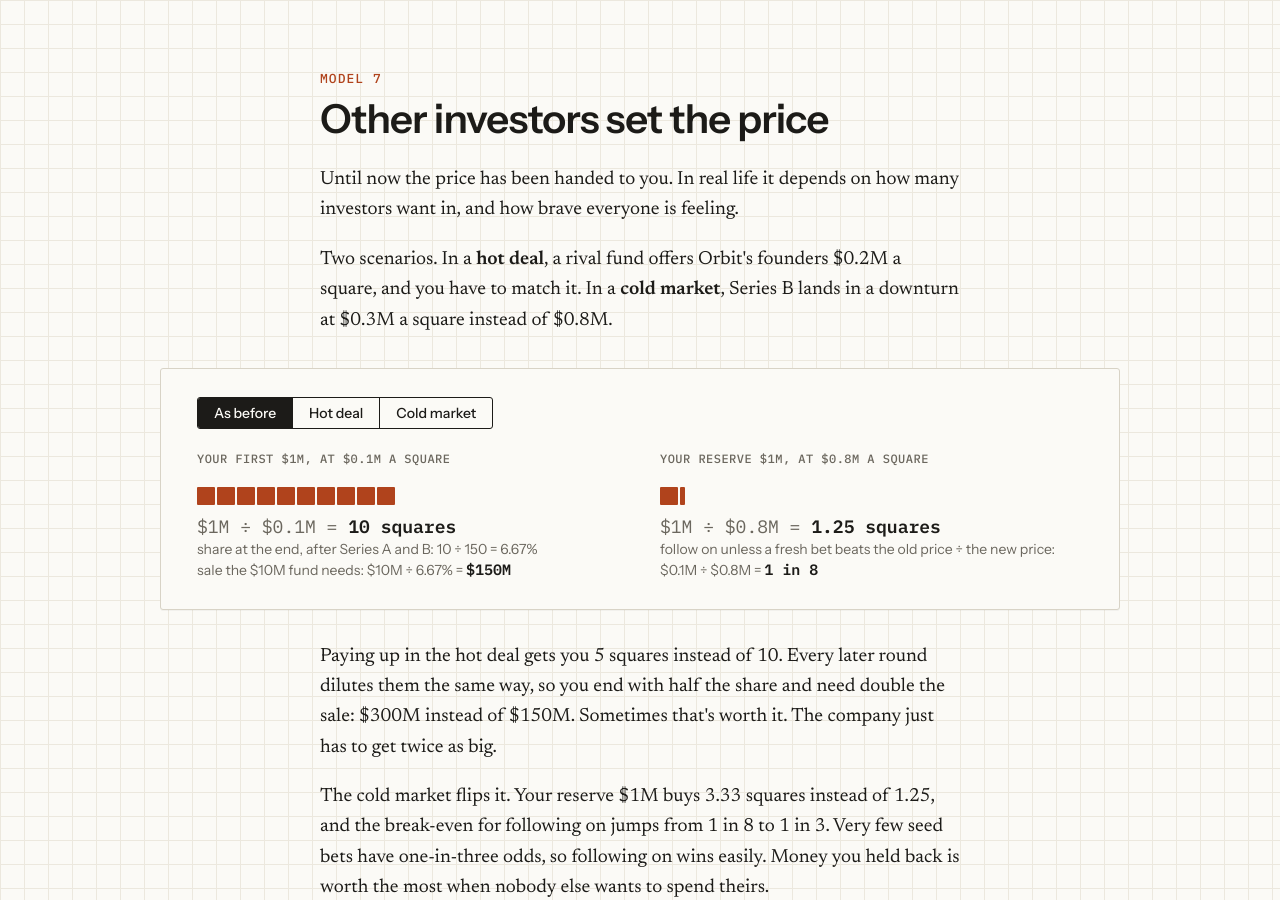
Test case: Model 7: other investors set the price › shows the division behind every number
Click the button "Hot deal".
click(336, 413)  # box [292,398,379,428]
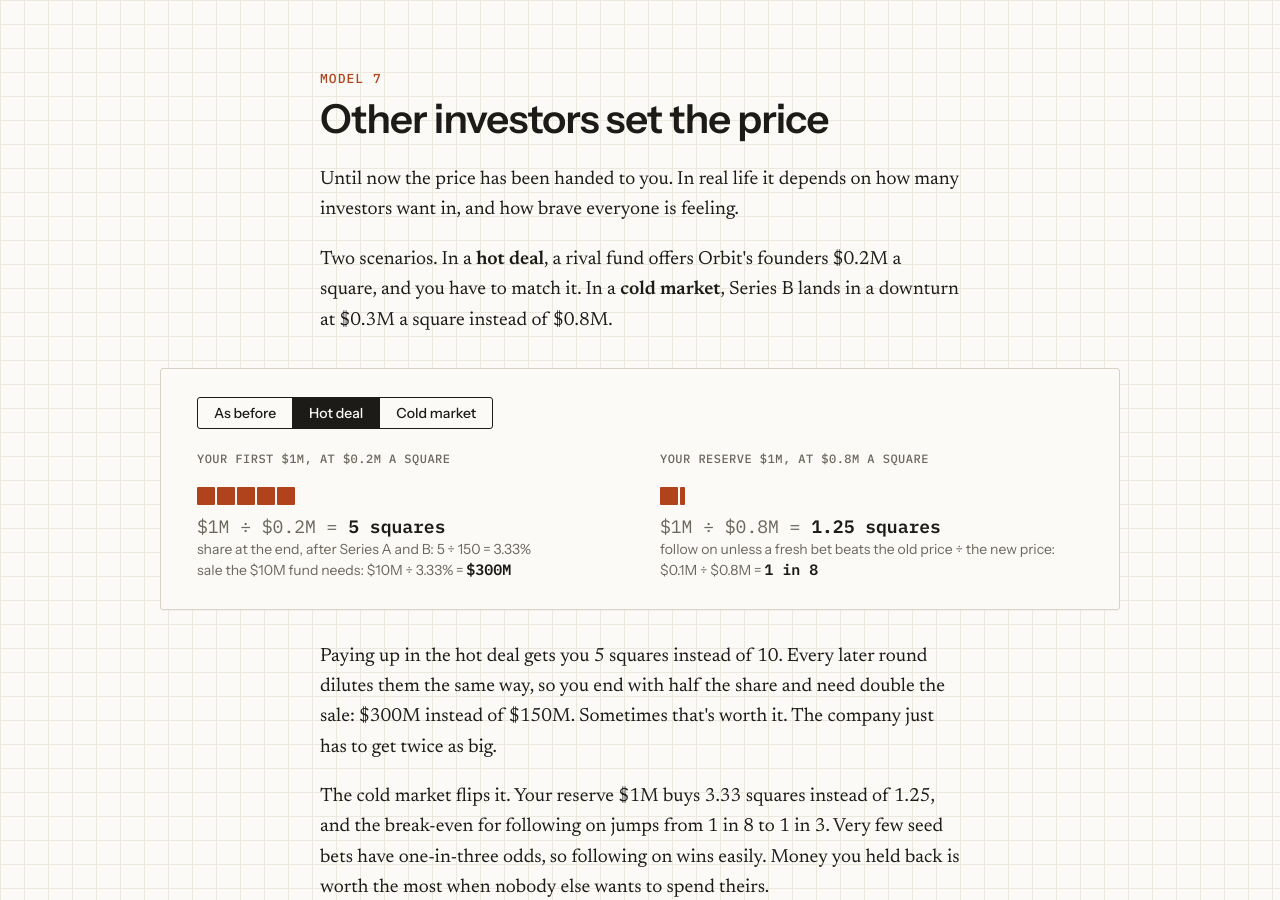
Expected: the text with test id "first-working-7" reads "$1M ÷ $0.2M =", [197,515,337,538]
Expected: the element with test id "napkin-7" reads "$10M ÷ 3.33% = $300M", [367,561,511,579]
Click the button "Cold market".
click(436, 413)  # box [379,398,492,428]
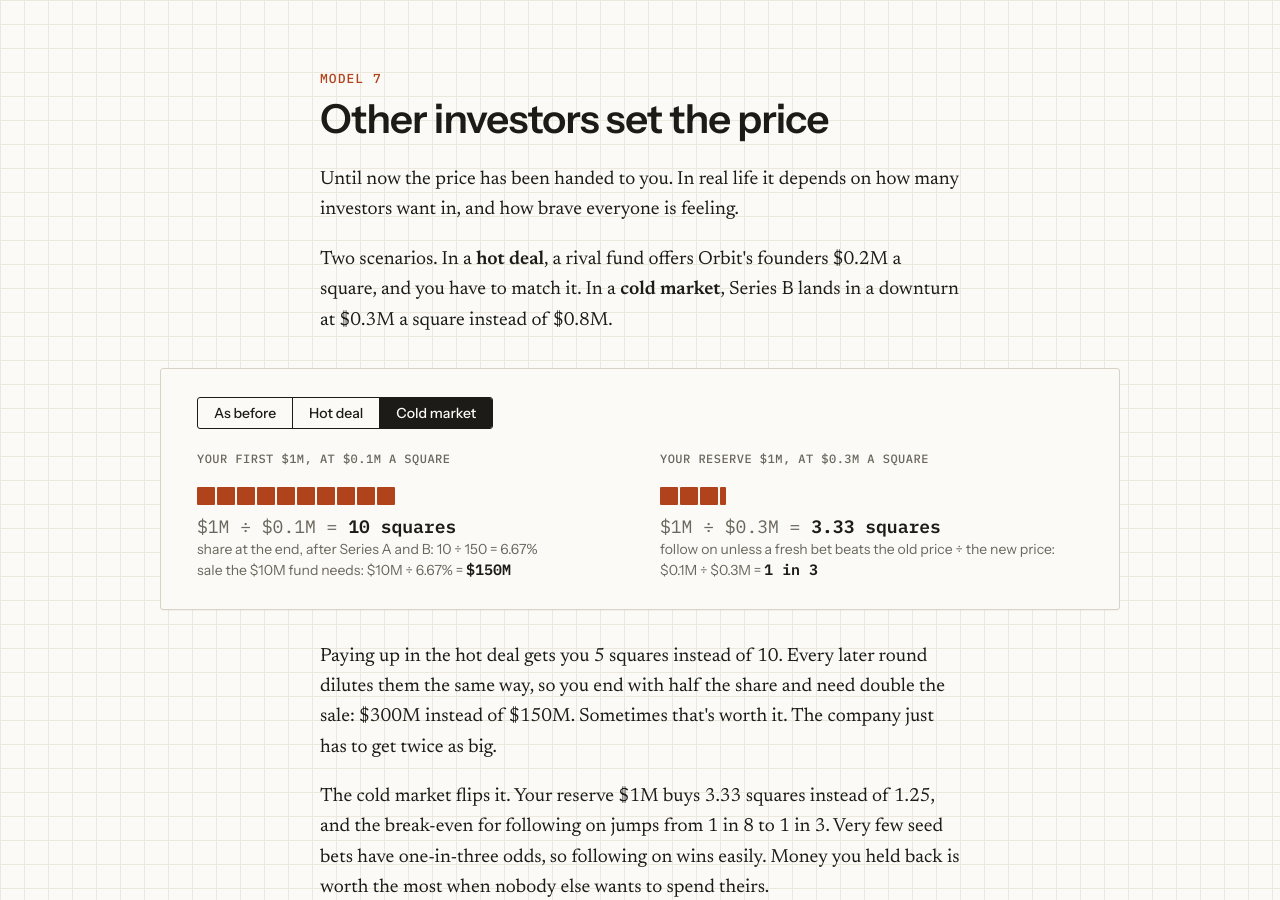
Expected: the text with test id "follow-working-7" reads "$1M ÷ $0.3M =", [660,515,800,538]
Expected: the element with test id "crossover-working-7" reads "$0.1M ÷ $0.3M = 1 in 3", [660,561,818,579]
